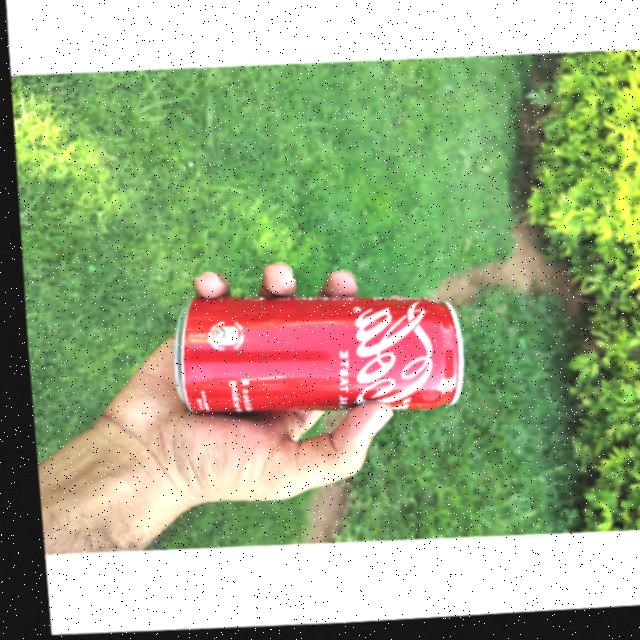Coca Cola: (157, 278, 464, 431)
